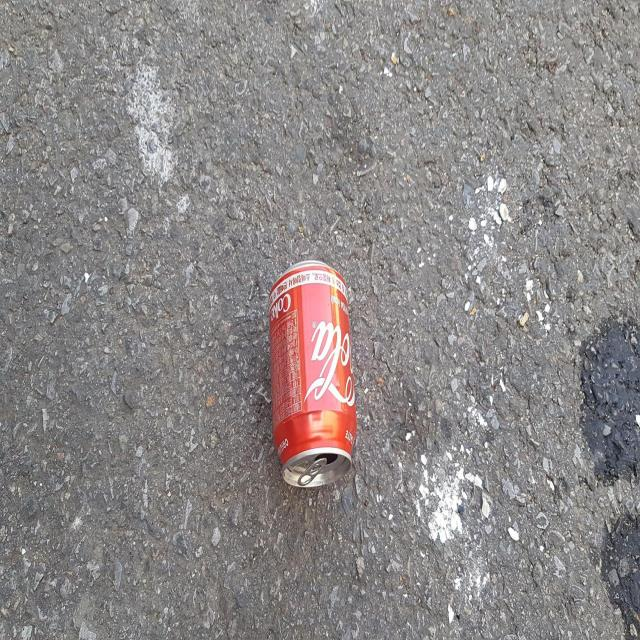can: (269, 260, 357, 487)
